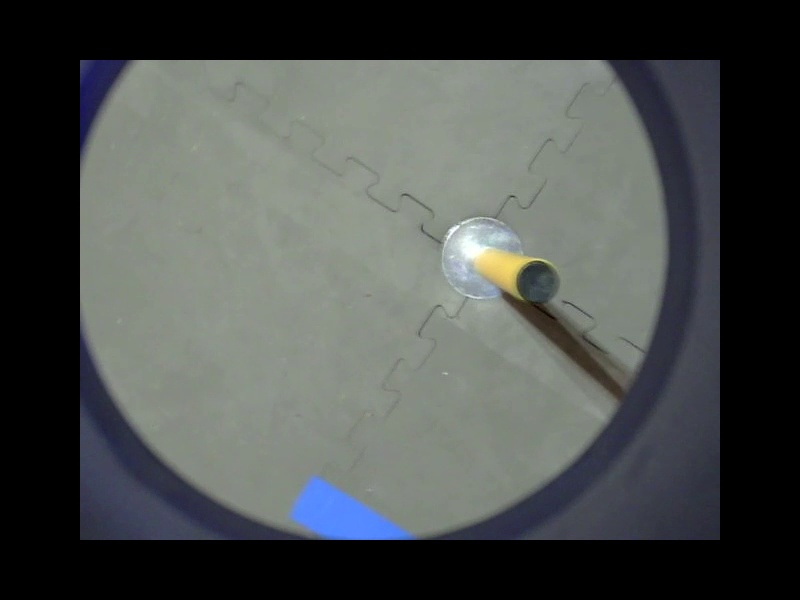tip: (510, 254, 564, 307)
